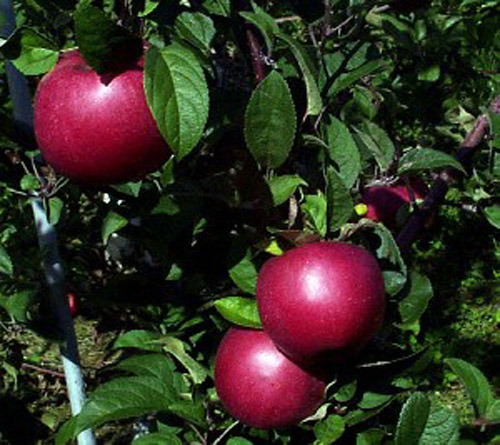apple: (29, 50, 179, 186), (253, 240, 391, 368), (210, 314, 333, 430)
